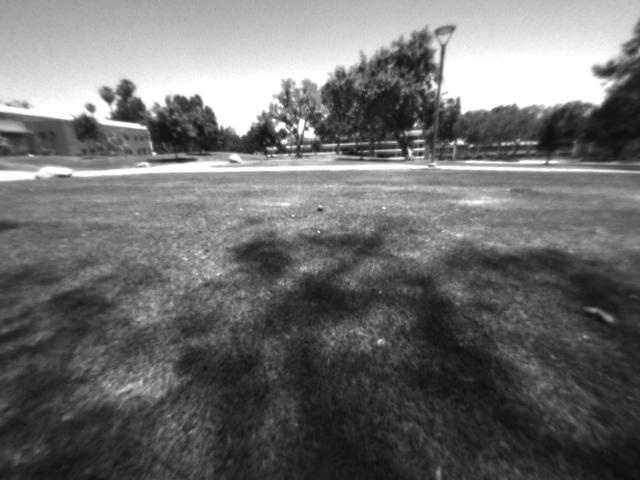dogtoy: (310, 197, 336, 218)
